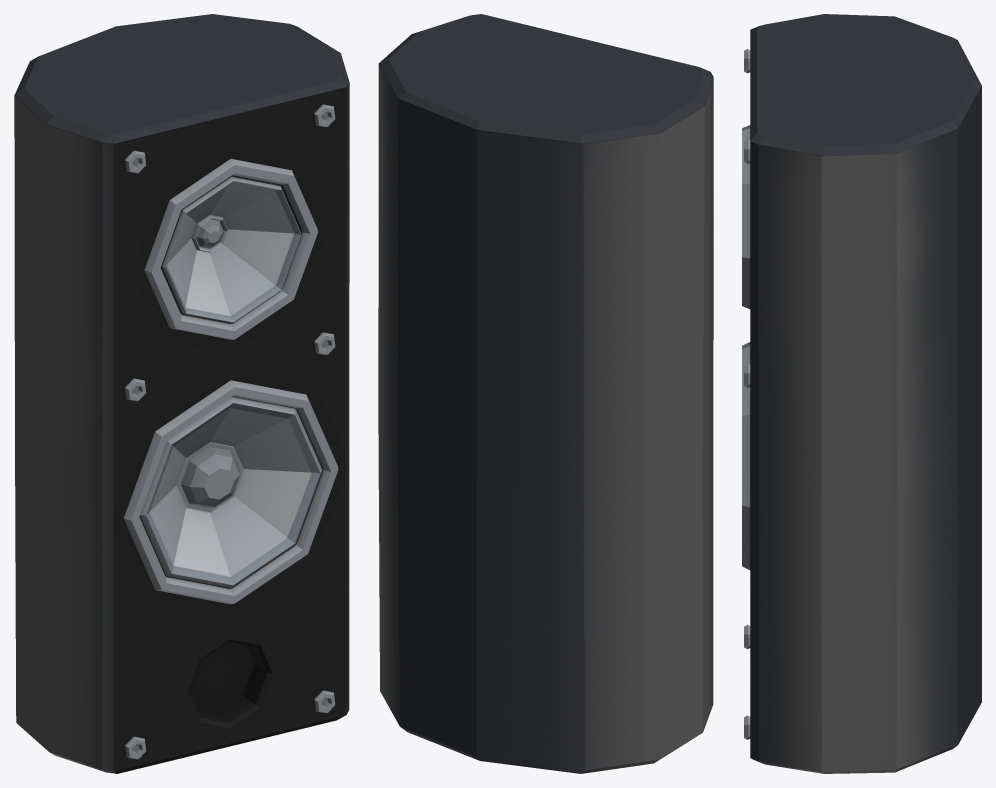
The model's file is WallDeskSpeakers.obj.
3 renders of one model, left to right at view 1: azimuth 30°, elevation 25°; view 2: azimuth 150°, elevation 25°; view 3: azimuth 270°, elevation 25°, orthographic.
Visible parts, largest first — view 1: WallDeskSpeakers_mesh; view 2: WallDeskSpeakers_mesh; view 3: WallDeskSpeakers_mesh.
Boxes of the visible parts, left/top/right/bottom form: WallDeskSpeakers_mesh: left=14, top=14, right=349, bottom=773; WallDeskSpeakers_mesh: left=378, top=14, right=713, bottom=773; WallDeskSpeakers_mesh: left=742, top=14, right=981, bottom=773.
Bounding box in the file's own units: 7.5 × 15.61 × 5.4.
1 material, 1 textured.
